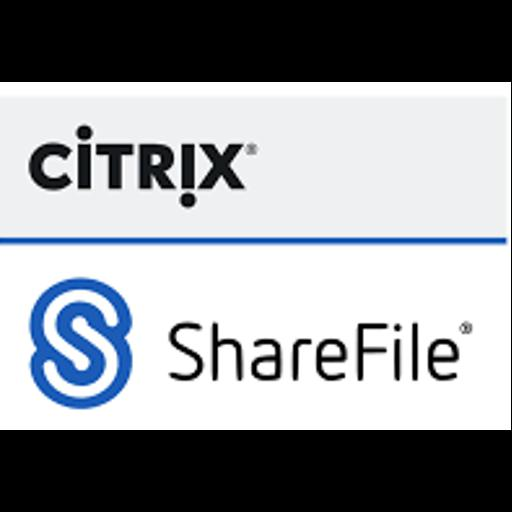Citrix ShareFile: (0, 82, 511, 430)
